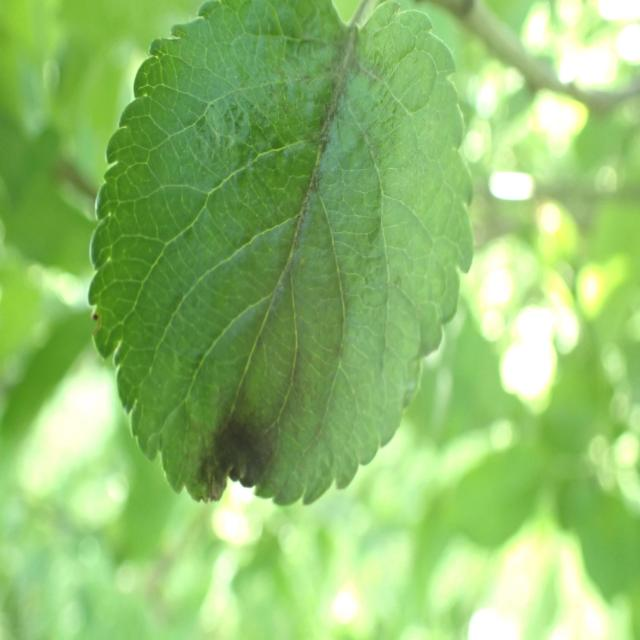scab: (184, 11, 400, 511)
